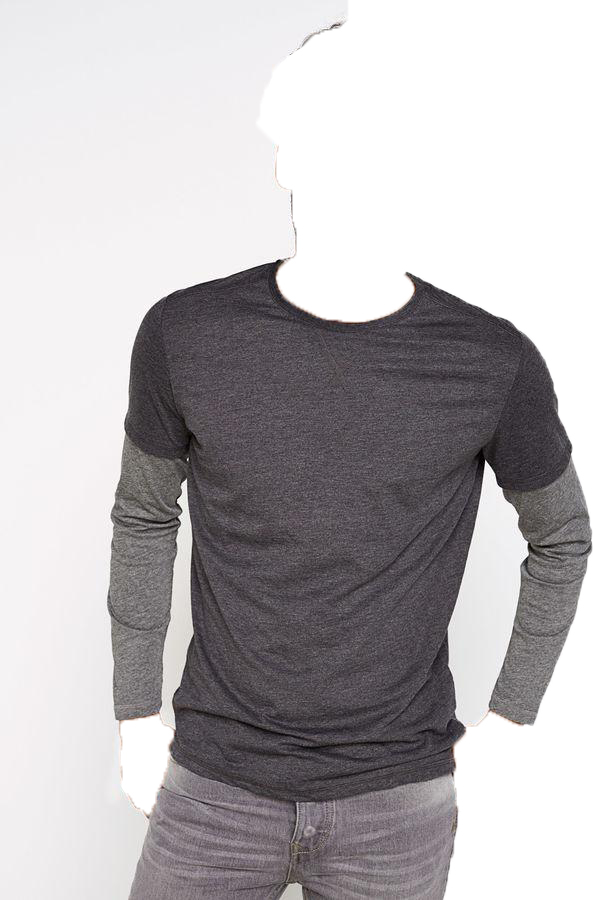teeshirt: (103, 255, 600, 809)
